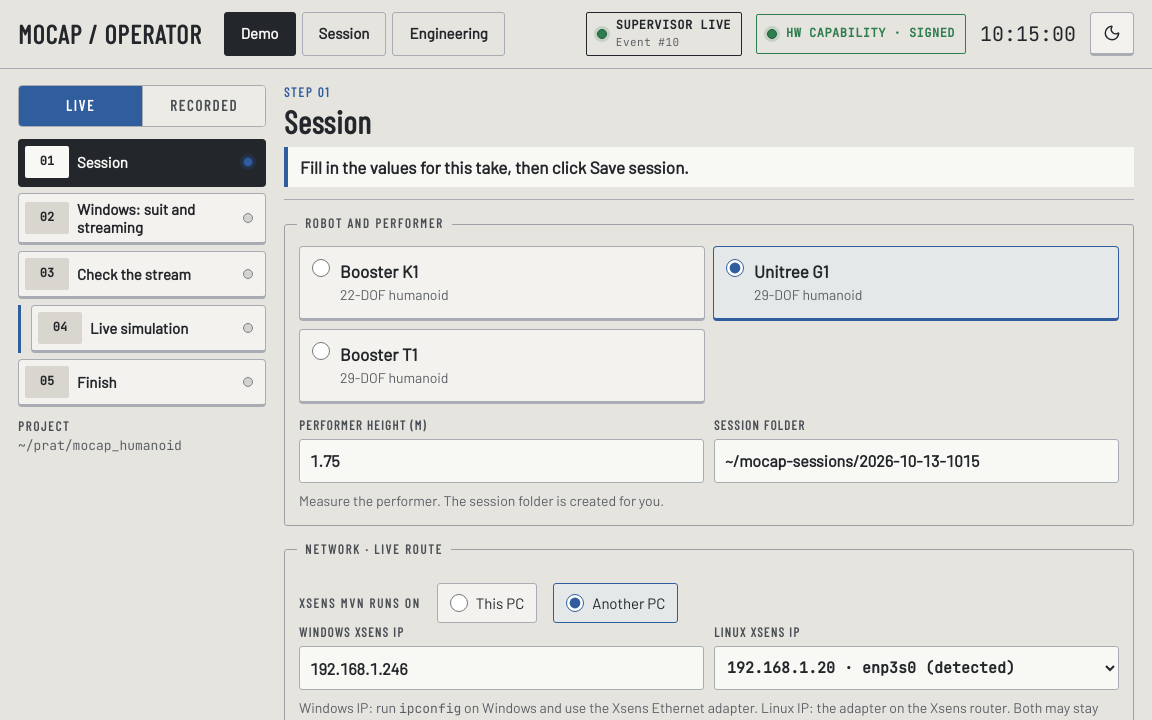
it: Setup session form › shows a validation error at its field, then saves
The width and height of the screenshot is (1152, 720).
Replace the text in the number field labelled "Performer height (m)" with "3" at point(502, 460), box [299,438,704,482]
(page scrolled)
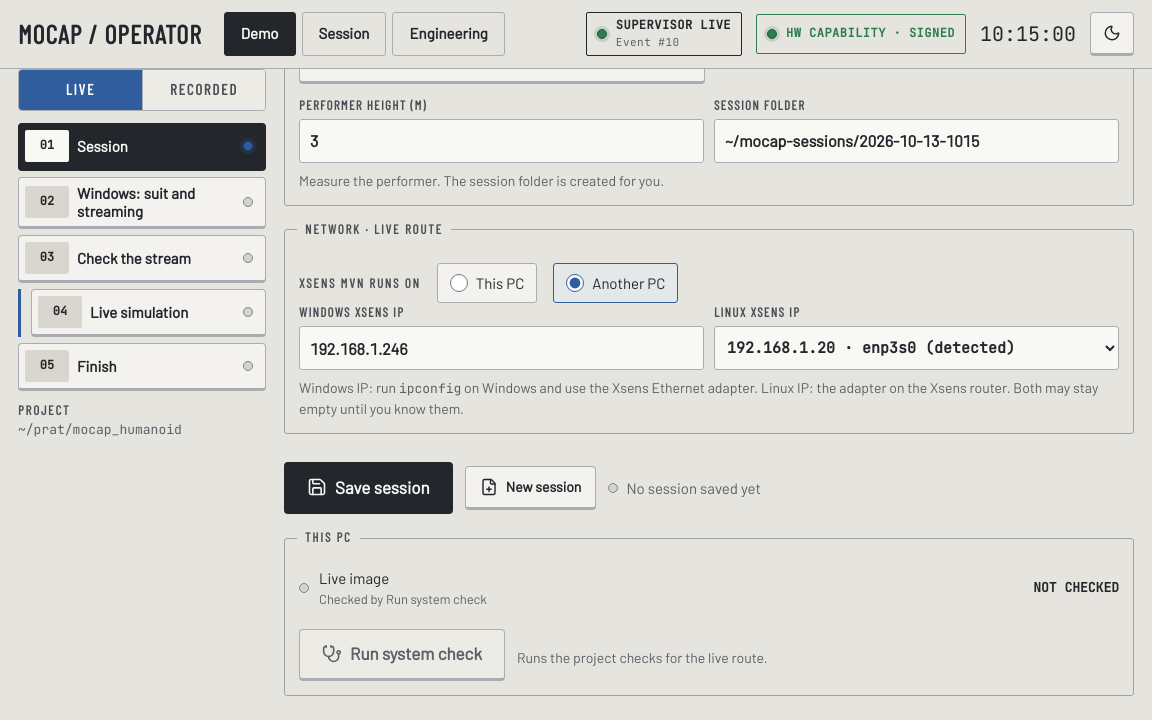
Click the button "Save session" at point(368, 488), box [284,462,453,514]
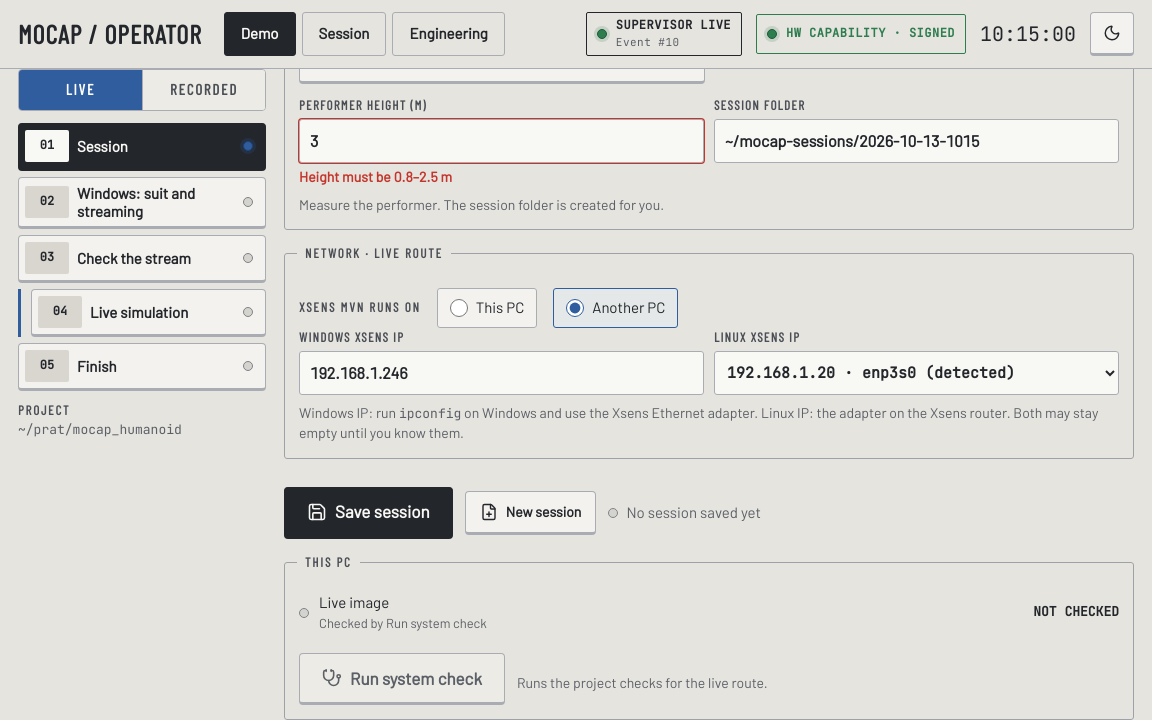
Expected: the text "Height must be 0.8–2.5 m" is shown, [299,168,452,184]
Replace the text in the number field labelled "Performer height (m)" with "1.8" at point(502, 140), box [299,118,704,162]
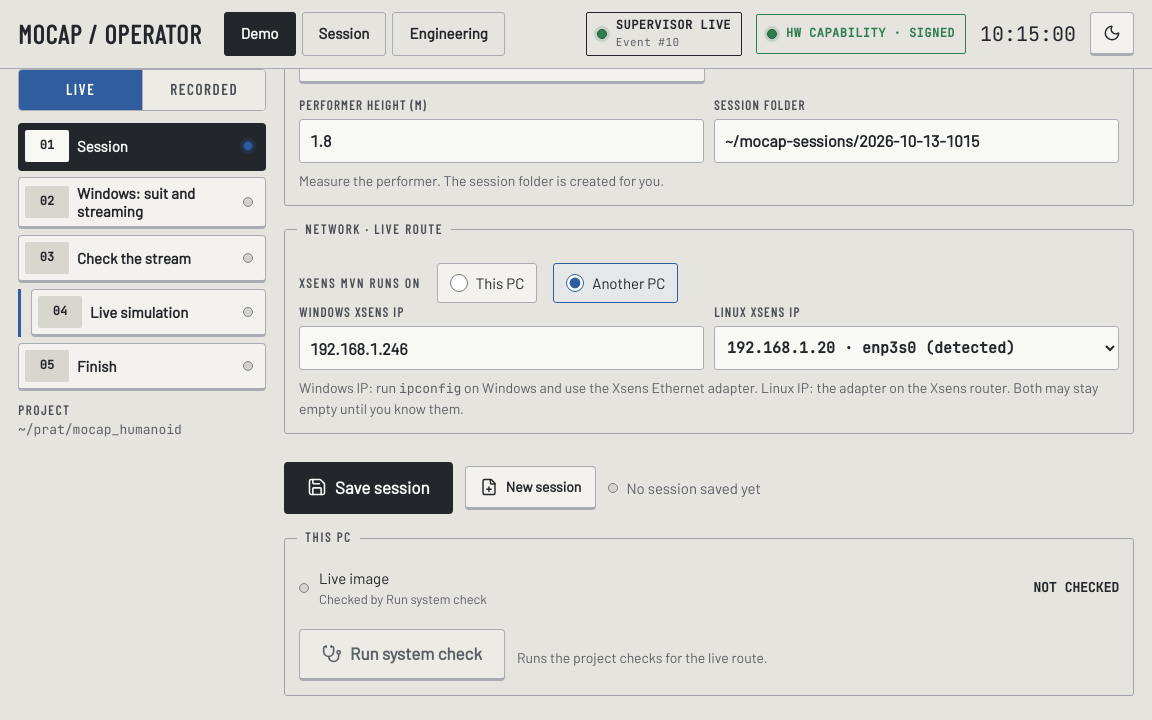
Expected: the number field labelled "Performer height (m)" does not have attribute aria-invalid, [299,118,704,162]
Click the button "Save session" at point(368, 488), box [284,462,453,514]
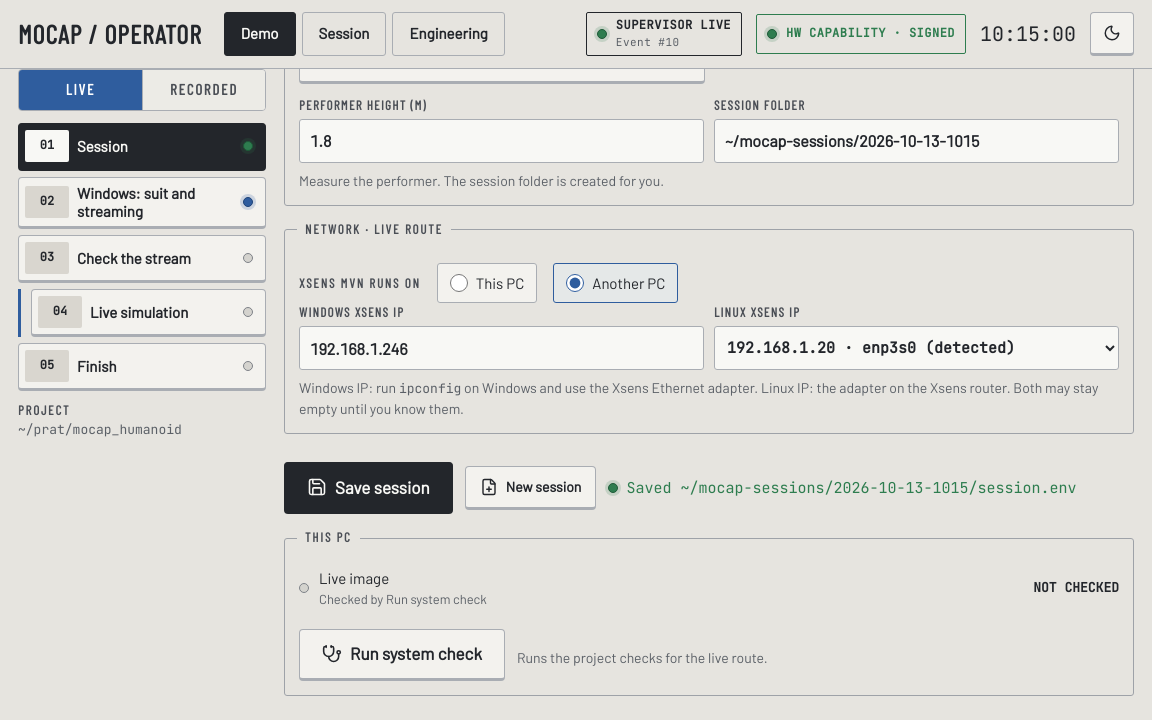
Expected: the text "Saved ~/mocap-sessions/2026-10-13-1015/session.env" is shown, [626,478,1076,499]
Expected: the picture named "Done" is shown, [243,141,253,151]
